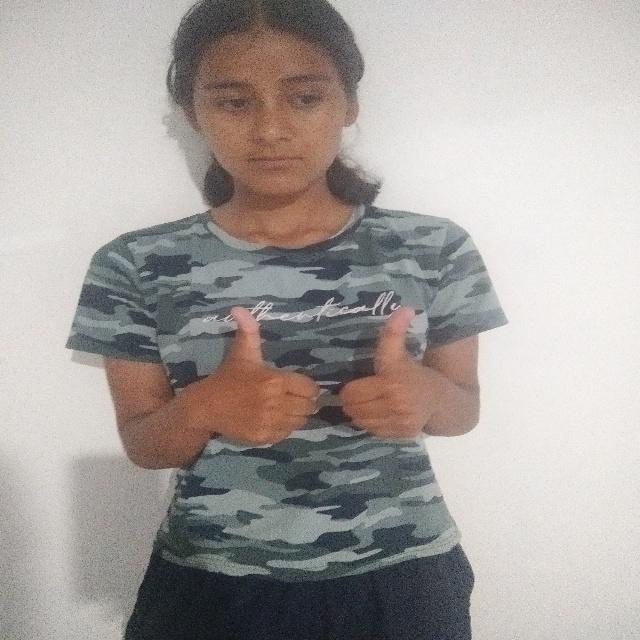Thumbs Up: (190, 304, 325, 450), (337, 302, 446, 448)
